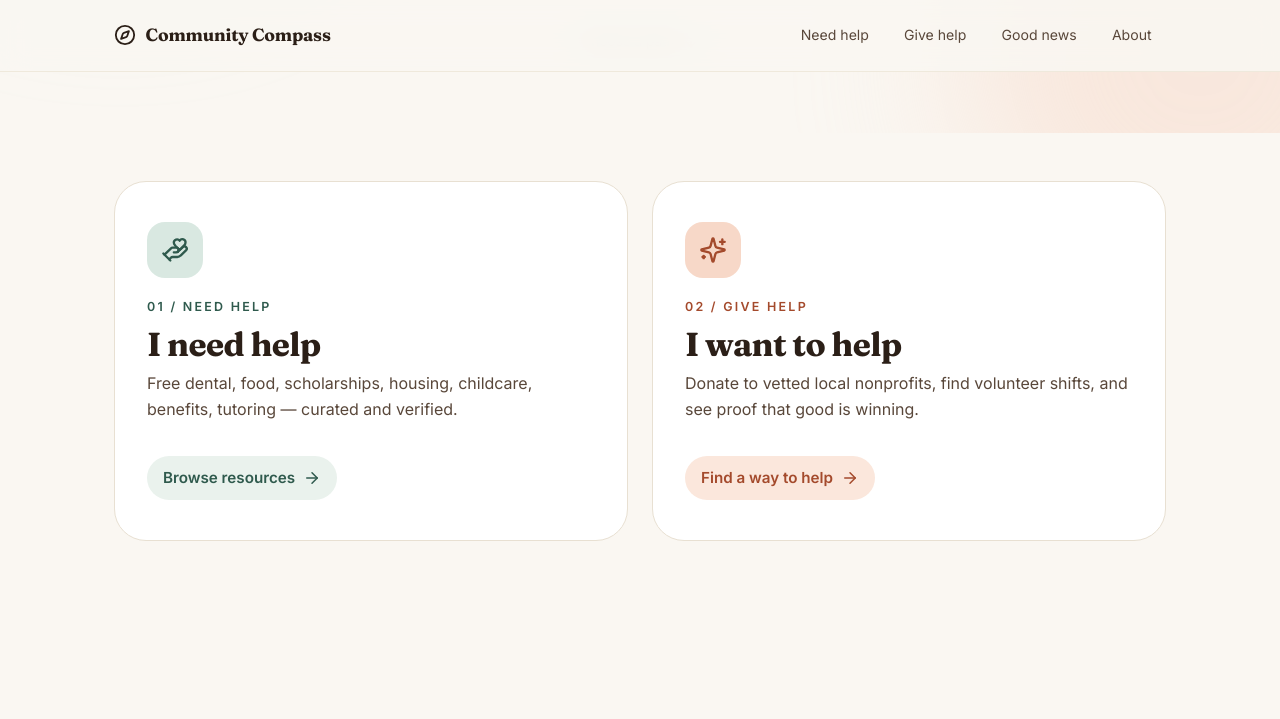
it: Navigation › clicking the I-need-help card lands on the need-help directory
(page scrolled)
Click the link "I need help": (371, 361) [114,181,628,541]
(page scrolled)
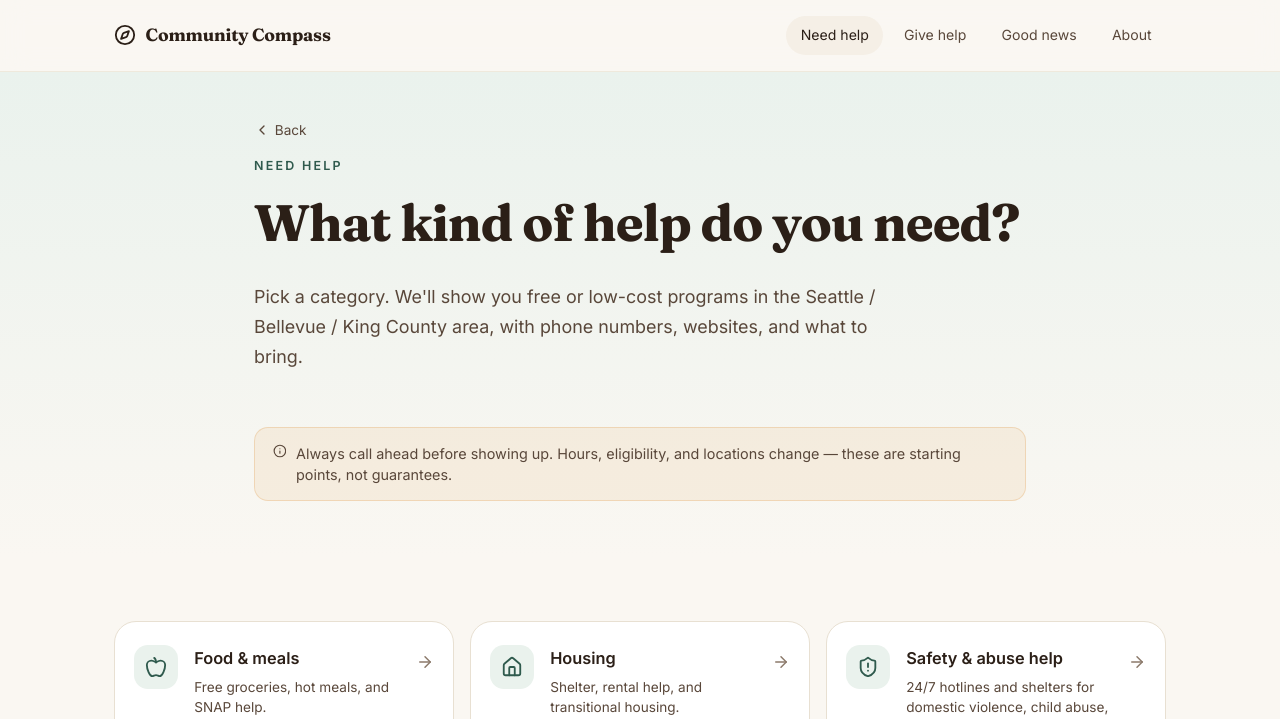
Check: the heading "What kind of help do you need?" is shown, box [254,196,1026,250]
